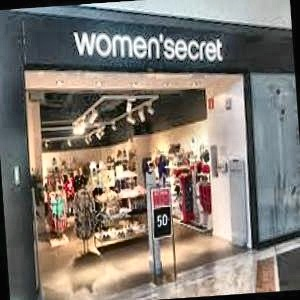women_secret: (195, 10, 260, 30)
